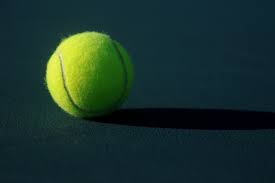tennis_ball: (42, 29, 137, 122)
